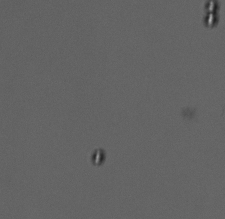Living Cell: (203, 12, 218, 28), (91, 149, 105, 165), (205, 1, 218, 13)
